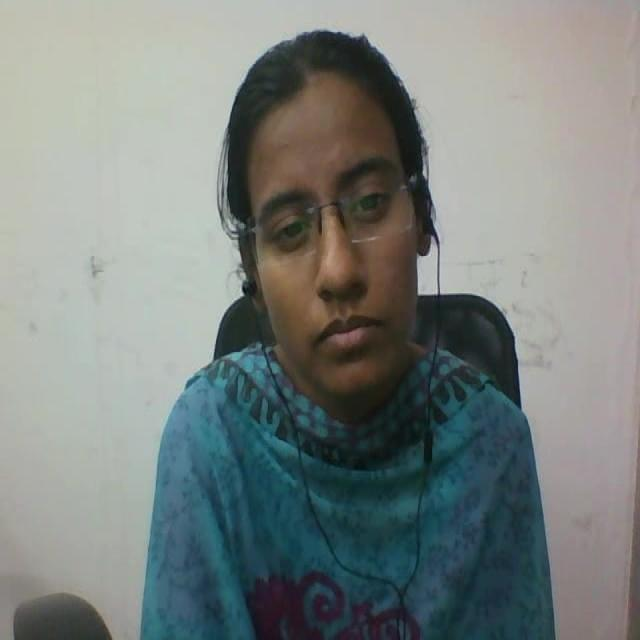Bored: (186, 14, 509, 447)
